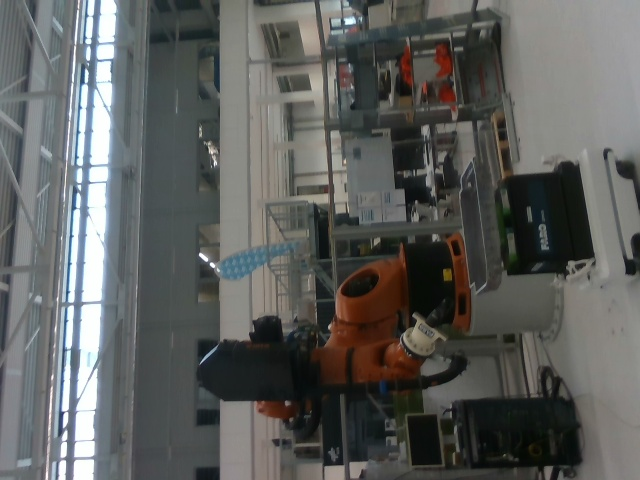Robot arm: (197, 232, 471, 442)
